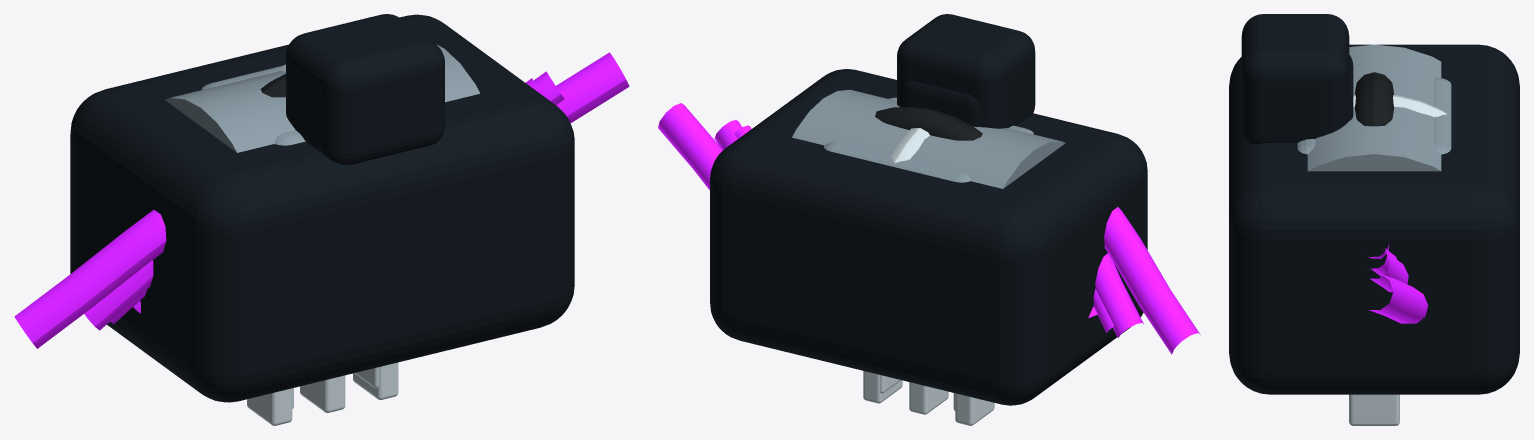
Rendered from electrical_03.glb.
3 renders of one model, left to right at view 1: azimuth 30°, elevation 25°; view 2: azimuth 150°, elevation 25°; view 3: azimuth 270°, elevation 25°, orthographic. The views are drawn at different scales.
Visible parts, largest first — view 1: asset_mesh__electrical_0107__reference_body, asset_mesh__electrical_0116__electrical_connector, asset_mesh__electrical_0134__current_path, asset_mesh__electrical_0116__electromagnetic_housing, asset_mesh__electrical_0130__current_path, asset_mesh__electrical_0132__blade_1, asset_mesh__electrical_0132__blade_2, asset_mesh__electrical_0132__blade_3, asset_mesh__electrical_0132__relay_or_fuse_body; view 2: asset_mesh__electrical_0107__reference_body, asset_mesh__electrical_0116__electrical_connector, asset_mesh__electrical_0116__electromagnetic_housing, asset_mesh__electrical_0134__current_path, asset_mesh__electrical_0130__current_path, asset_mesh__electrical_0140__service_element, asset_mesh__electrical_0113__electrical_connector, asset_mesh__electrical_0132__relay_or_fuse_body, asset_mesh__electrical_0132__blade_2, asset_mesh__electrical_0132__blade_1, asset_mesh__electrical_0103__functional_ring, asset_mesh__electrical_0132__blade_3 (+1 smaller); view 3: asset_mesh__electrical_0107__reference_body, asset_mesh__electrical_0116__electrical_connector, asset_mesh__electrical_0116__electromagnetic_housing, asset_mesh__electrical_0140__service_element, asset_mesh__electrical_0132__blade_3, asset_mesh__electrical_0132__relay_or_fuse_body, asset_mesh__electrical_0134__current_path, asset_mesh__electrical_0103__functional_ring, asset_mesh__electrical_0130__current_path, asset_mesh__electrical_0113__electrical_connector.
Part boxes in pixels (<box>): asset_mesh__electrical_0107__reference_body: <box>70,14,574,402</box>; asset_mesh__electrical_0116__electrical_connector: <box>286,14,444,164</box>; asset_mesh__electrical_0134__current_path: <box>14,52,629,348</box>; asset_mesh__electrical_0116__electromagnetic_housing: <box>165,44,480,152</box>; asset_mesh__electrical_0130__current_path: <box>84,71,564,330</box>; asset_mesh__electrical_0132__blade_1: <box>247,388,292,425</box>; asset_mesh__electrical_0132__blade_2: <box>300,375,345,412</box>; asset_mesh__electrical_0132__blade_3: <box>353,362,398,399</box>; asset_mesh__electrical_0132__relay_or_fuse_body: <box>202,65,305,145</box>; asset_mesh__electrical_0107__reference_body: <box>710,69,1147,405</box>; asset_mesh__electrical_0116__electrical_connector: <box>897,14,1035,128</box>; asset_mesh__electrical_0116__electromagnetic_housing: <box>792,89,1065,188</box>; asset_mesh__electrical_0134__current_path: <box>658,103,1200,354</box>; asset_mesh__electrical_0130__current_path: <box>714,120,1143,337</box>; asset_mesh__electrical_0140__service_element: <box>875,106,982,140</box>; asset_mesh__electrical_0113__electrical_connector: <box>903,80,979,126</box>; asset_mesh__electrical_0132__relay_or_fuse_body: <box>824,97,1033,182</box>; asset_mesh__electrical_0132__blade_2: <box>909,382,948,414</box>; asset_mesh__electrical_0132__blade_1: <box>955,393,994,425</box>; asset_mesh__electrical_0103__functional_ring: <box>890,128,929,163</box>; asset_mesh__electrical_0132__blade_3: <box>863,371,902,403</box>; asset_mesh__electrical_0107__reference_body: <box>1229,44,1519,394</box>; asset_mesh__electrical_0116__electrical_connector: <box>1241,14,1349,144</box>; asset_mesh__electrical_0116__electromagnetic_housing: <box>1307,44,1441,171</box>; asset_mesh__electrical_0140__service_element: <box>1355,72,1393,126</box>; asset_mesh__electrical_0132__blade_3: <box>1349,394,1399,425</box>; asset_mesh__electrical_0132__relay_or_fuse_body: <box>1297,78,1451,154</box>; asset_mesh__electrical_0134__current_path: <box>1369,274,1428,323</box>; asset_mesh__electrical_0103__functional_ring: <box>1353,94,1446,117</box>; asset_mesh__electrical_0130__current_path: <box>1370,250,1408,292</box>; asset_mesh__electrical_0113__electrical_connector: <box>1348,55,1353,121</box>.
Size of the model in its own units: 1.73 by 1.07 by 0.7728.
